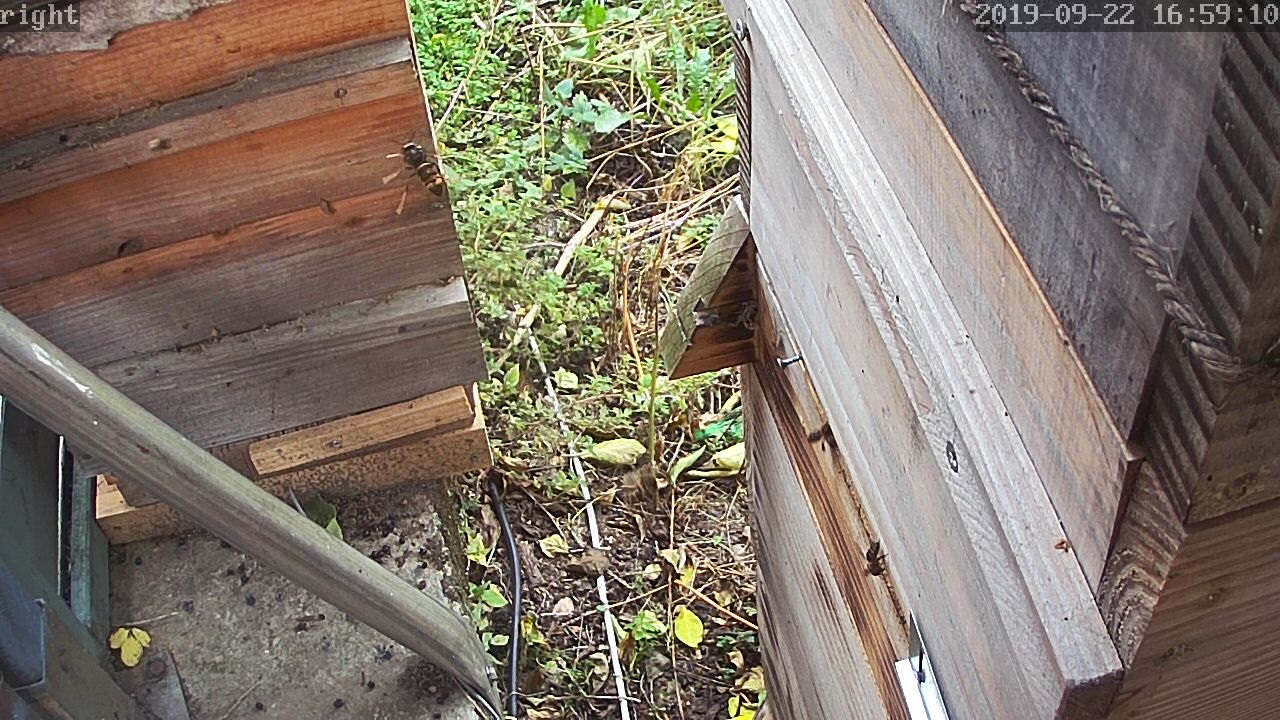bee: (857, 546, 893, 587), (806, 420, 844, 457)
hornet: (384, 135, 453, 201)
